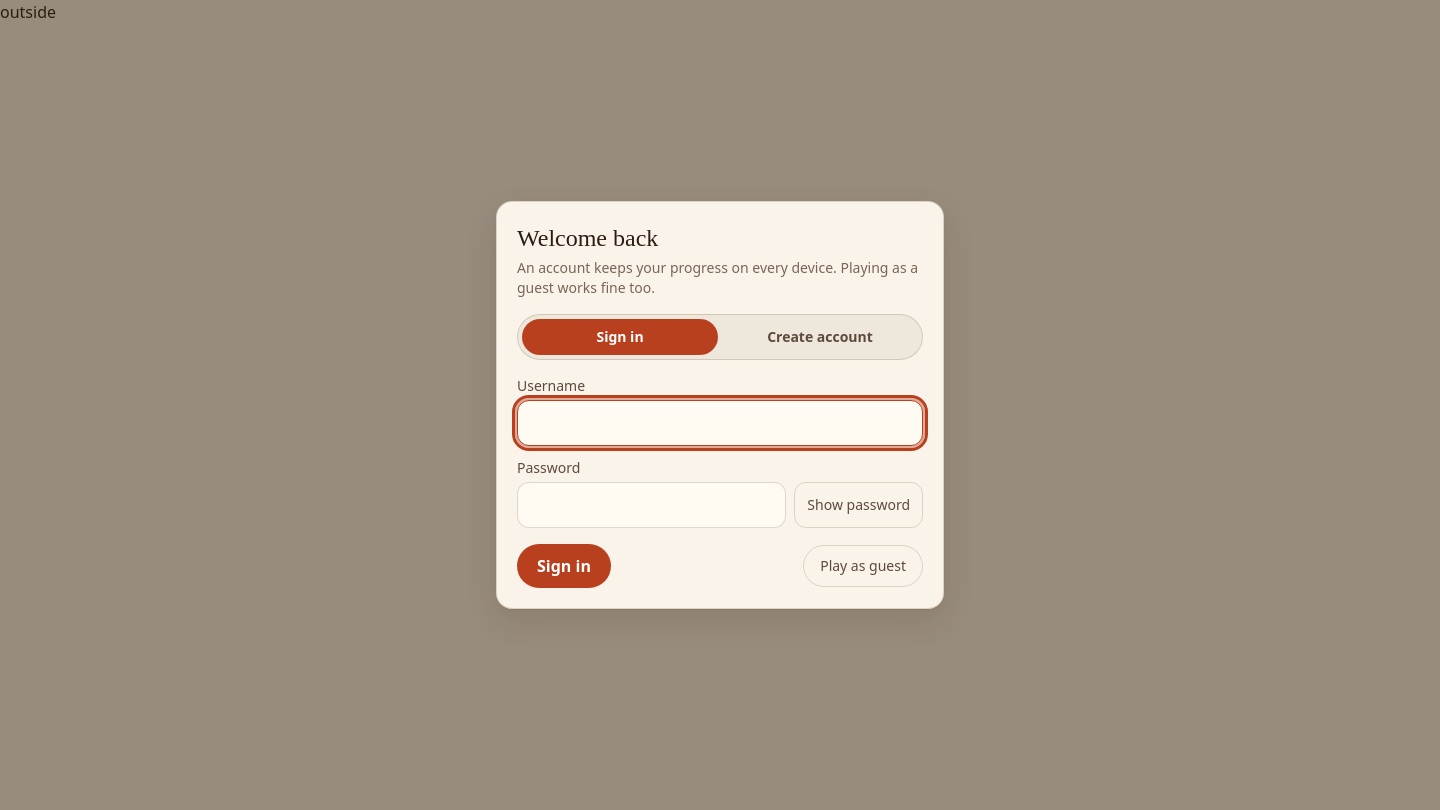
Test: AuthDialog › shows a bad login inline and stays open
Type "hao" into the field labelled "Username". click: coordinates (720, 423)
box: [517,400,923,446]
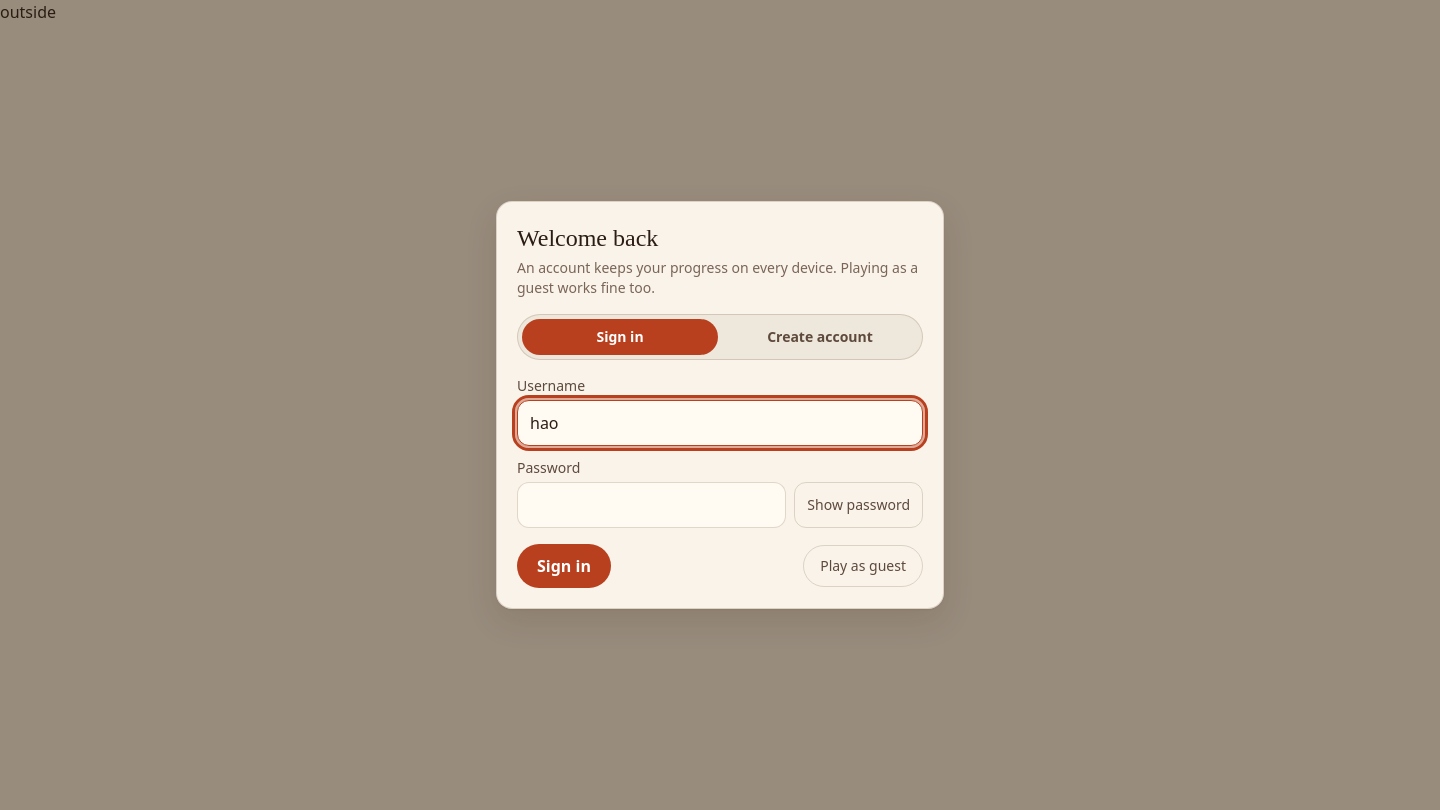
Type "wrongwrong" into the password field labelled "Password". click: coordinates (652, 505)
box: [517,482,786,528]
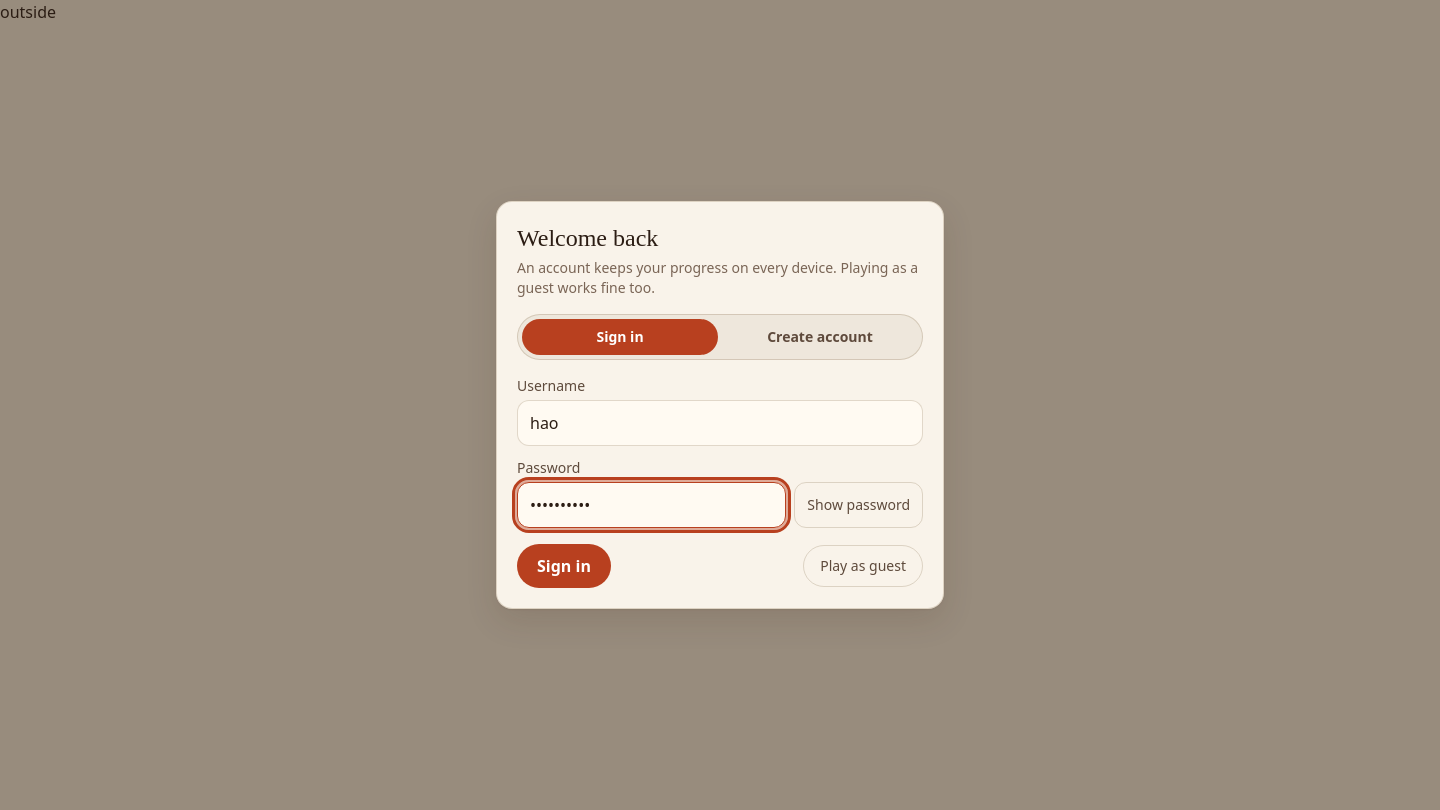
Click the button "Sign in". click: coordinates (564, 566)
box: [517,544,611,588]
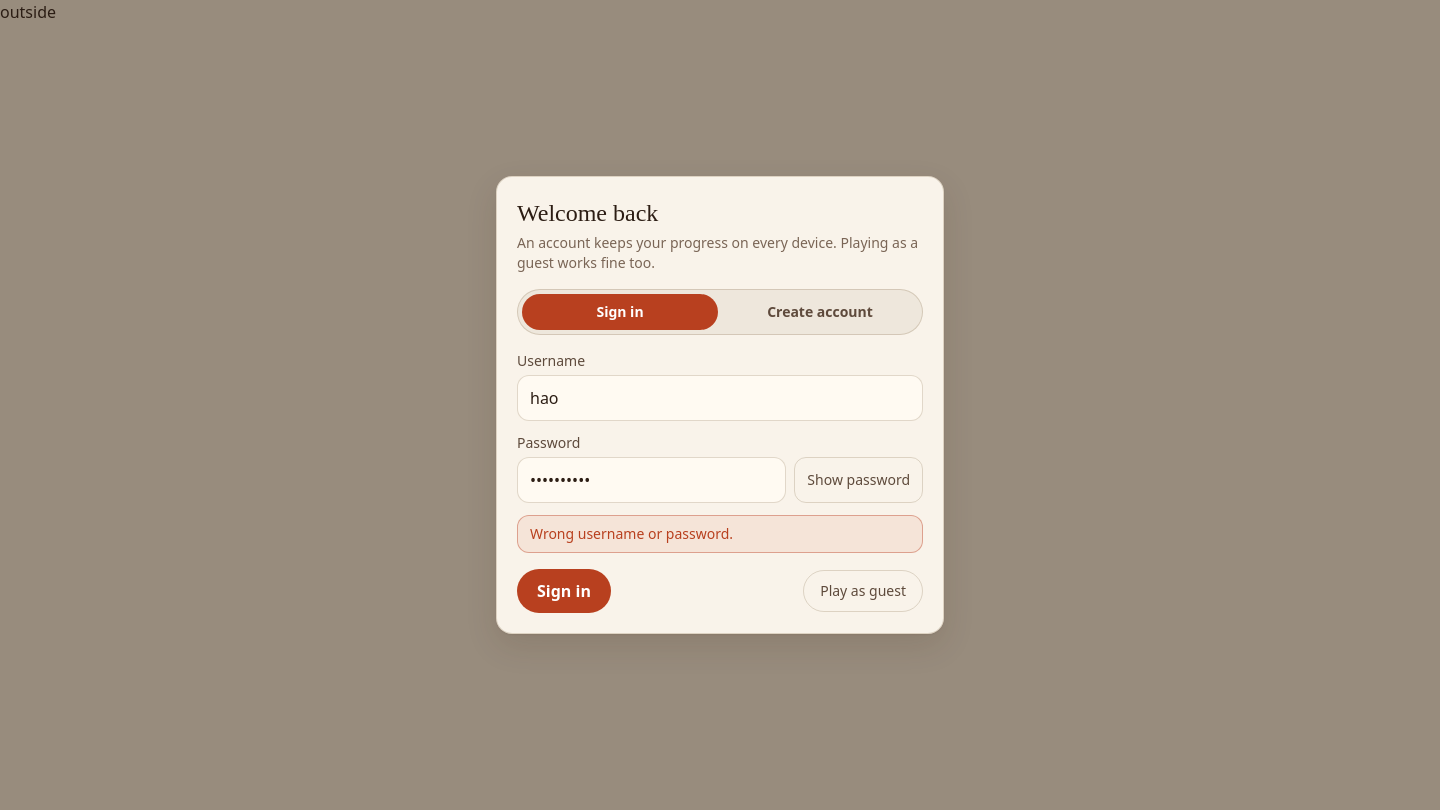
Result: the message reads "Wrong username or password." at [530,524,733,543]
